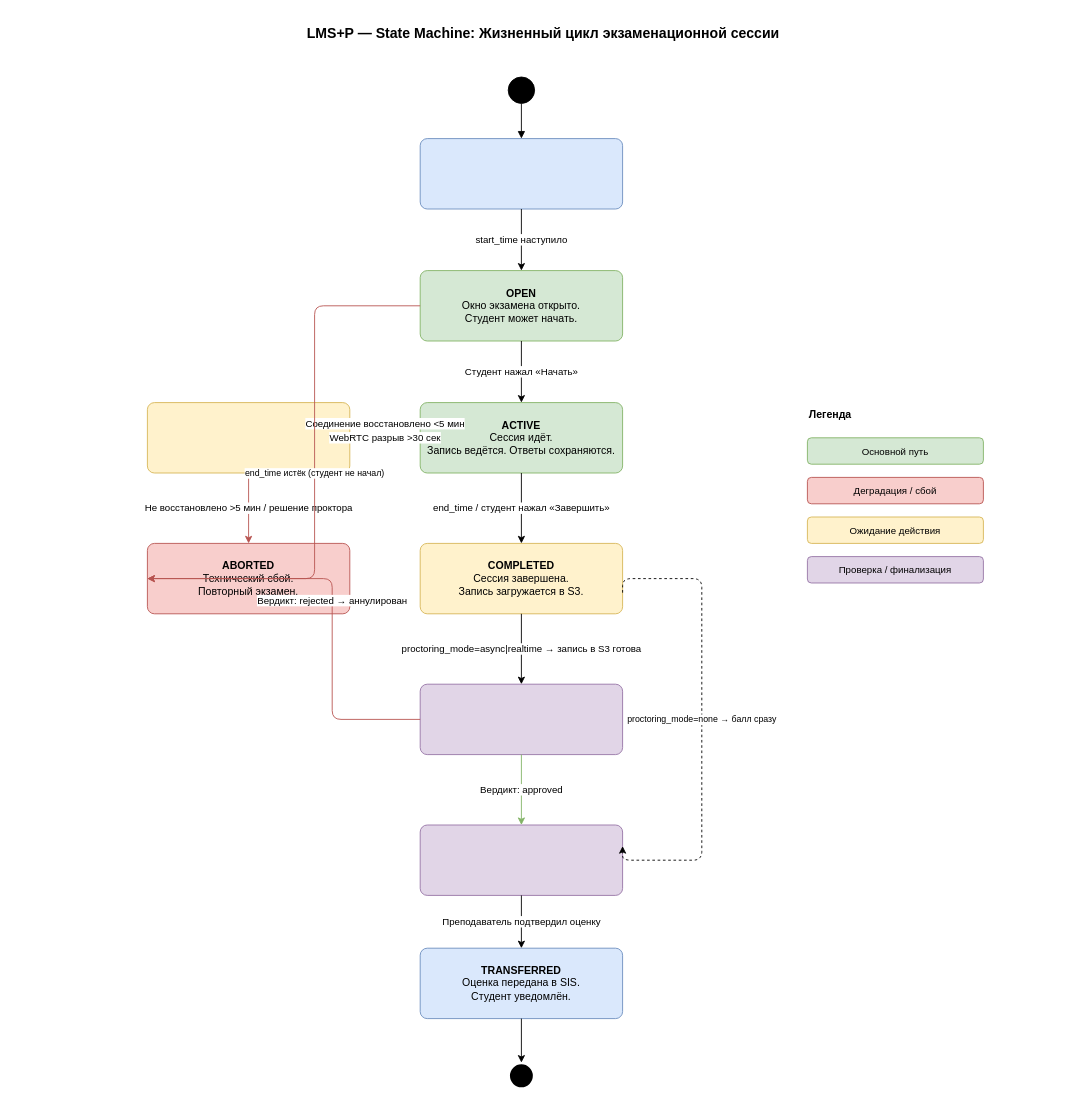
Some shapes in this 1086 by 1105 pixel diagram are drawn without their labels. Each missing label, with the centre of its shape:
GRADED Вердикт вынесен. Итоговый балл рассчитан.: [521,859]
PAUSED Разрыв WebRTC >30 сек. Таймер остановлен.: [248,437]
SCHEDULED Экзамен запланирован. Доступ заблокирован.: [521,173]
UNDER REVIEW Проктор просматривает запись и события.: [521,719]
